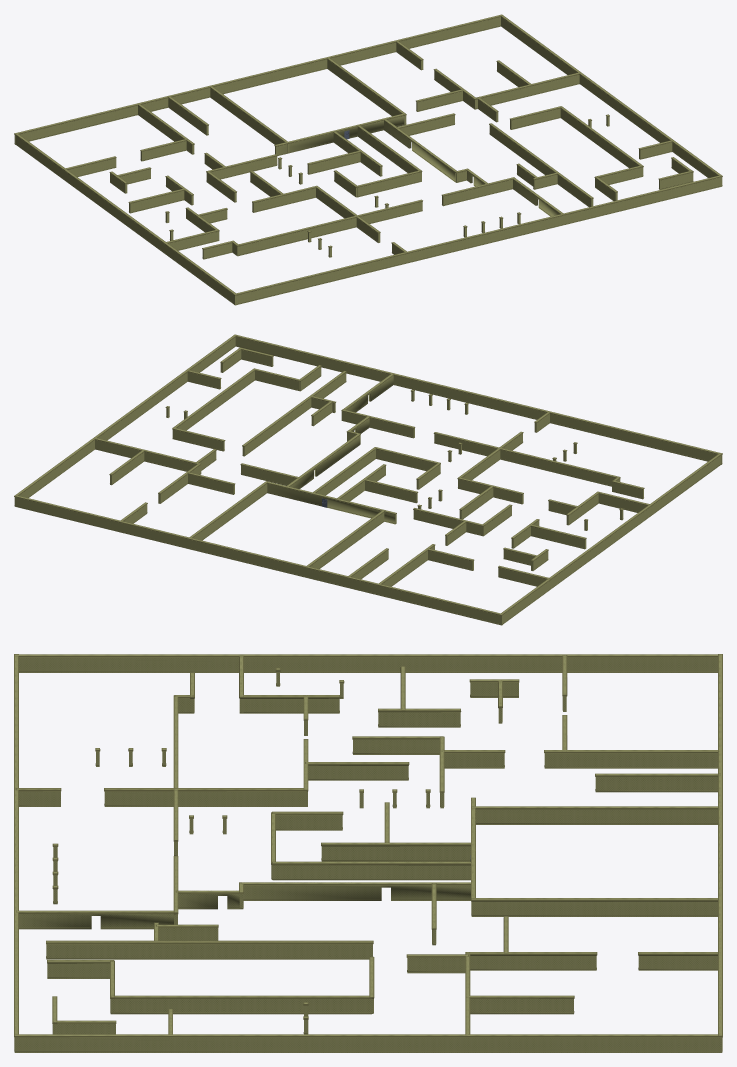
The model's file is map no doors.fbx.
3 views of the same model, one above another, from view 1: azimuth 30°, elevation 25°; view 2: azimuth 150°, elevation 25°; view 3: azimuth 270°, elevation 25° (orthographic). The views are drawn at different scales.
Parts seen in each view (by area): view 1: wall.011, wall.001, wall.009, wall.010, wall.049, wall.015, wall door, wall.016, wall.018, wall.003, wall.002, wall door.011 (+20 smaller); view 2: wall.001, wall.011, wall.009, wall.010, wall.049, wall door, wall.015, wall.016, wall.018, wall.003, wall.002, wall door.011 (+19 smaller); view 3: wall.010, wall.009, wall.015, wall.018, wall.003, wall.002, wall door.011, wall.013, wall.051, wall.056, wall.012, wall door.002 (+20 smaller).
Boxes of the visible parts, box(x1,y1,x2,y2) form: wall.011: box(233, 175, 720, 305); wall.001: box(14, 14, 502, 144); wall.009: box(16, 134, 237, 305); wall.010: box(501, 15, 722, 186); wall.049: box(237, 199, 422, 256); wall.015: box(489, 123, 593, 207); wall door: box(274, 114, 404, 155); wall.016: box(474, 72, 580, 109); wall.018: box(560, 106, 643, 168); wall.003: box(327, 58, 406, 125); wall.002: box(210, 86, 289, 153); wall door.011: box(384, 119, 457, 182); wall.001: box(14, 495, 503, 625); wall.011: box(235, 335, 722, 464); wall.009: box(501, 453, 722, 624); wall.010: box(16, 334, 236, 497); wall.049: box(433, 432, 619, 486); wall door: box(267, 482, 396, 524); wall.015: box(242, 371, 346, 456); wall.016: box(94, 438, 201, 473); wall.018: box(172, 368, 255, 430); wall.003: box(189, 481, 268, 540); wall.002: box(307, 509, 385, 568); wall door.011: box(287, 433, 360, 488); wall.010: box(14, 1034, 721, 1052); wall.009: box(14, 654, 717, 672); wall.015: box(46, 940, 373, 959); wall.018: box(110, 995, 372, 1014); wall.003: box(471, 898, 717, 916); wall.002: box(471, 806, 717, 824); wall door.011: box(241, 882, 470, 900); wall.013: box(272, 861, 471, 880); wall.051: box(104, 788, 306, 806); wall.056: box(544, 750, 717, 768); wall.012: box(321, 842, 471, 861); wall door.002: box(16, 910, 173, 929).
Size of the model in its own units: 48336 by 1000 by 37891.
